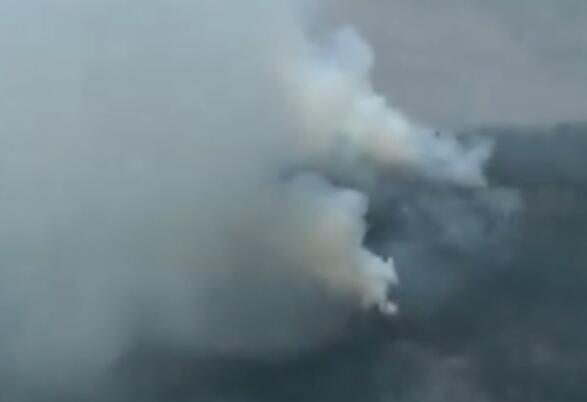yanwu: (0, 0, 484, 389)
